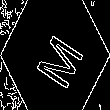M_NW: (26, 22, 84, 88)
